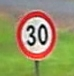limite 30: (13, 8, 58, 60)
